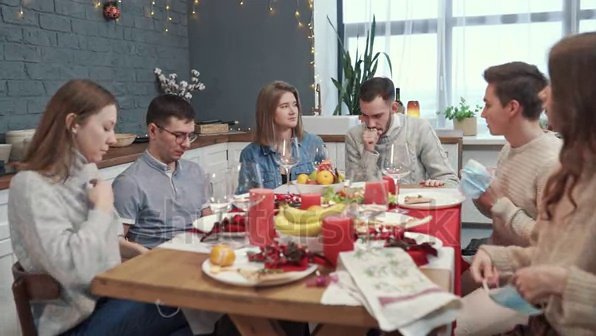No Mask: (48, 81, 126, 176), (476, 63, 546, 142), (143, 95, 203, 169), (356, 78, 404, 140), (259, 82, 303, 138)
